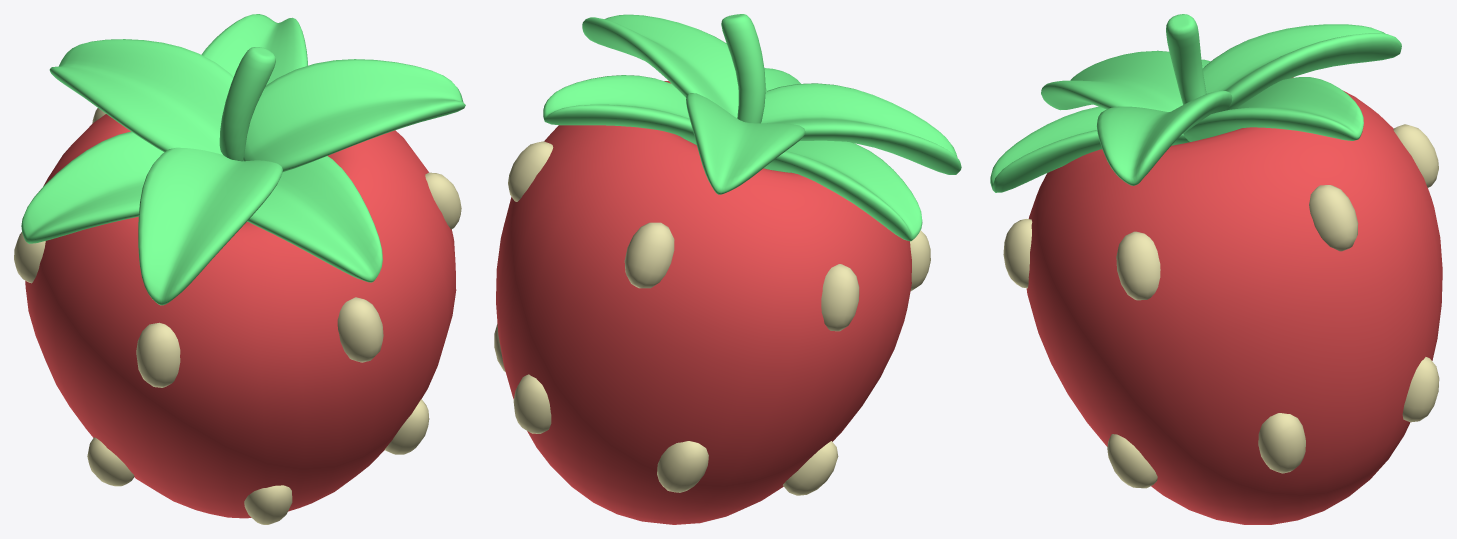
File: StrawberryPrefab.fbx
3 views of the same model, side by side, from view 1: azimuth 30°, elevation 25°; view 2: azimuth 150°, elevation 25°; view 3: azimuth 270°, elevation 25° (orthographic). The views are drawn at different scales.
Visible parts, largest first — view 1: Body, Leaf.004, Leaf.003, Leaf.005, Leaf, Leaf.002, Leaf.001, Stem, Seed, Seed.005, Seed.011, Seed.010 (+3 smaller); view 2: Body, Leaf.003, Leaf.004, Leaf.002, Leaf.001, Leaf.005, Stem, Seed.003, Seed.009, Seed.004, Seed.008, Seed.010 (+2 smaller); view 3: Body, Leaf.005, Leaf.001, Leaf.003, Leaf.004, Leaf, Stem, Seed.001, Seed.002, Seed.007, Seed.006, Seed.008 (+2 smaller).
Part boxes in pixels (left/top/right/bottom): Body: left=25, top=114, right=456, bottom=518; Leaf.004: left=243, top=59, right=465, bottom=171; Leaf.003: left=138, top=147, right=282, bottom=305; Leaf.005: left=49, top=39, right=233, bottom=154; Leaf: left=247, top=156, right=382, bottom=282; Leaf.002: left=21, top=131, right=163, bottom=243; Leaf.001: left=201, top=14, right=307, bottom=85; Stem: left=219, top=47, right=275, bottom=161; Seed: left=337, top=297, right=383, bottom=362; Seed.005: left=136, top=322, right=180, bottom=387; Seed.011: left=244, top=485, right=292, bottom=524; Seed.010: left=87, top=437, right=134, bottom=486; Body: left=496, top=81, right=911, bottom=524; Leaf.003: left=761, top=83, right=961, bottom=174; Leaf.004: left=582, top=14, right=766, bottom=117; Leaf.002: left=764, top=140, right=922, bottom=241; Leaf.001: left=543, top=75, right=696, bottom=144; Leaf.005: left=686, top=93, right=805, bottom=194; Stem: left=721, top=14, right=765, bottom=123; Seed.003: left=624, top=222, right=674, bottom=288; Seed.009: left=657, top=441, right=708, bottom=492; Seed.004: left=821, top=264, right=859, bottom=331; Seed.008: left=513, top=374, right=551, bottom=433; Seed.010: left=783, top=441, right=838, bottom=495; Body: left=1026, top=77, right=1442, bottom=524; Leaf.005: left=1202, top=24, right=1401, bottom=110; Leaf.001: left=1183, top=77, right=1363, bottom=141; Leaf.003: left=1041, top=50, right=1203, bottom=111; Leaf.004: left=1096, top=90, right=1232, bottom=185; Leaf: left=990, top=106, right=1189, bottom=192; Stem: left=1166, top=14, right=1206, bottom=104; Seed.001: left=1116, top=231, right=1160, bottom=300; Seed.002: left=1309, top=185, right=1358, bottom=251; Seed.007: left=1258, top=413, right=1305, bottom=473; Seed.006: left=1107, top=434, right=1157, bottom=488; Seed.008: left=1402, top=357, right=1439, bottom=422.
Size of the model in its own units: 353 by 405 by 345.
